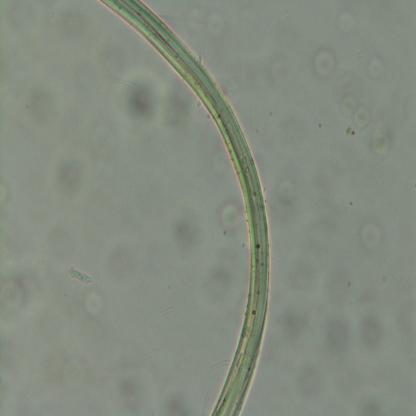Background material: (285, 314, 363, 397), (121, 76, 188, 134), (181, 3, 232, 45), (108, 233, 138, 304), (109, 344, 145, 401), (0, 274, 45, 316), (50, 151, 86, 202), (91, 38, 130, 85), (171, 209, 204, 261), (306, 42, 338, 83), (339, 90, 370, 130), (334, 11, 364, 47), (358, 314, 387, 350), (81, 288, 109, 322), (368, 127, 394, 162), (24, 92, 53, 121), (357, 218, 382, 250), (219, 202, 243, 235), (363, 54, 389, 82), (280, 178, 298, 211), (168, 392, 194, 413), (68, 266, 94, 286)
Glass filter fibre: (210, 356, 230, 370), (159, 306, 176, 318)
Microfibre: (99, 0, 271, 414)
